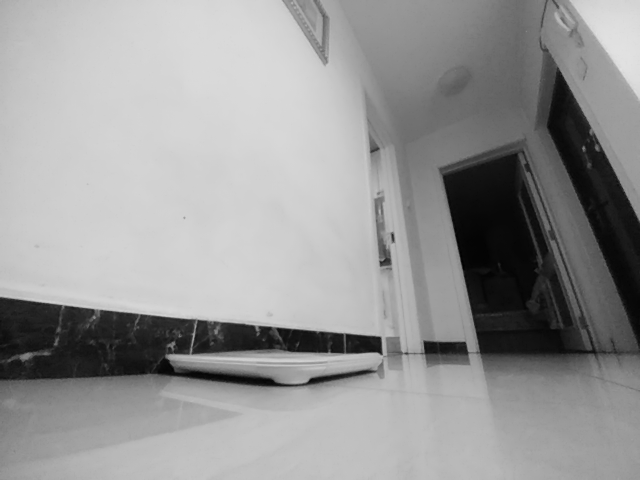scale: (164, 348, 385, 386)
